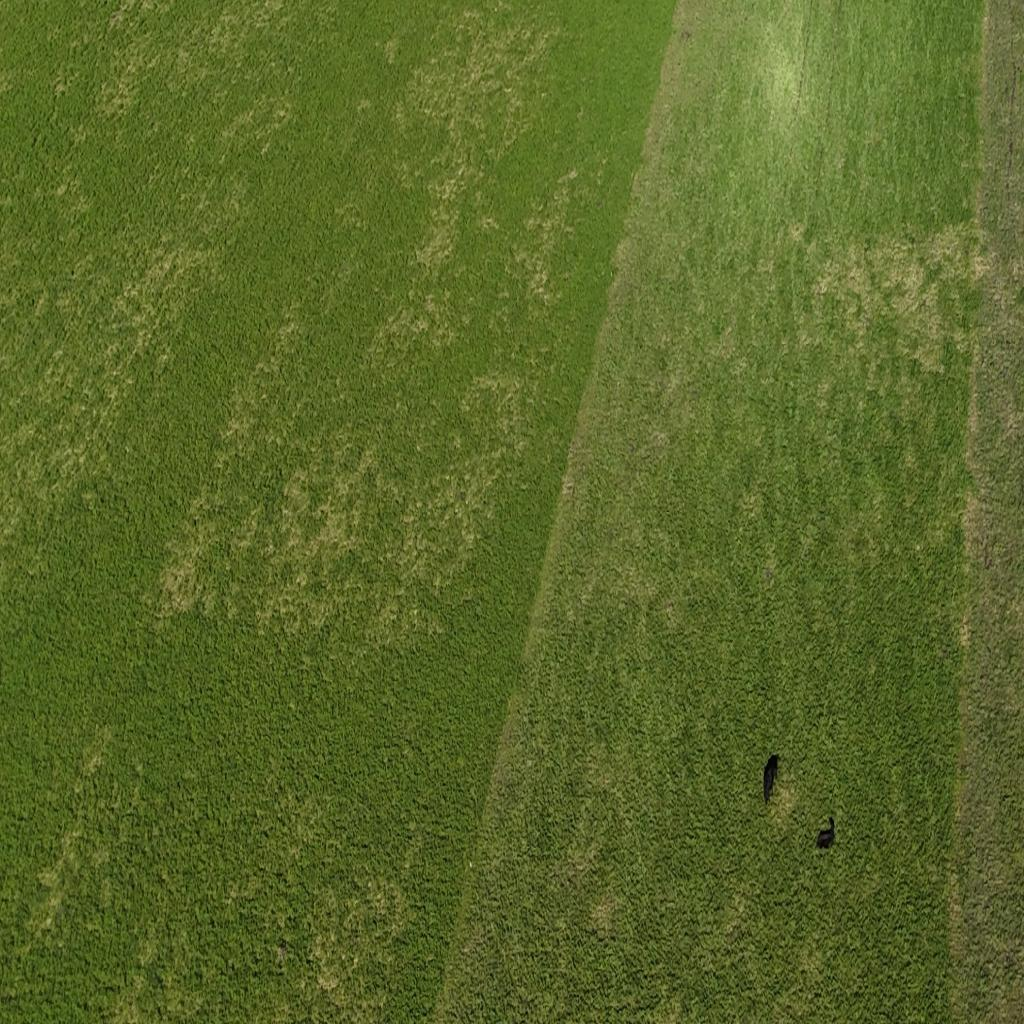cow: (763, 754, 780, 806), (817, 819, 835, 849)
